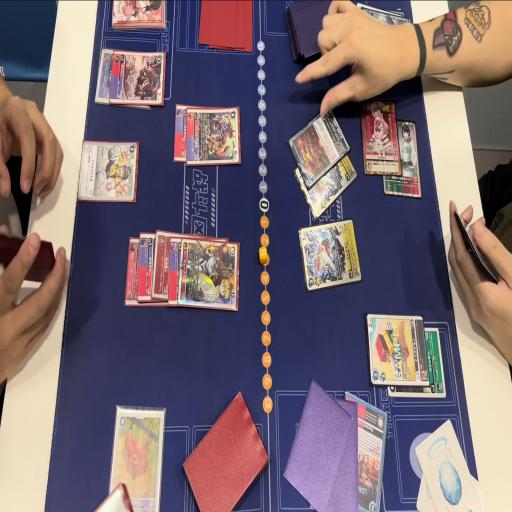card: (111, 405, 164, 512), (344, 387, 389, 512), (299, 216, 359, 292), (389, 324, 448, 401), (293, 155, 357, 225), (366, 313, 428, 385), (76, 136, 140, 202), (289, 109, 347, 180), (180, 242, 240, 308), (109, 50, 168, 109), (184, 108, 240, 169), (363, 92, 398, 178), (384, 119, 420, 198), (124, 234, 144, 310), (153, 228, 171, 305), (139, 229, 155, 310), (94, 49, 115, 109), (167, 234, 182, 308), (172, 105, 188, 164)
